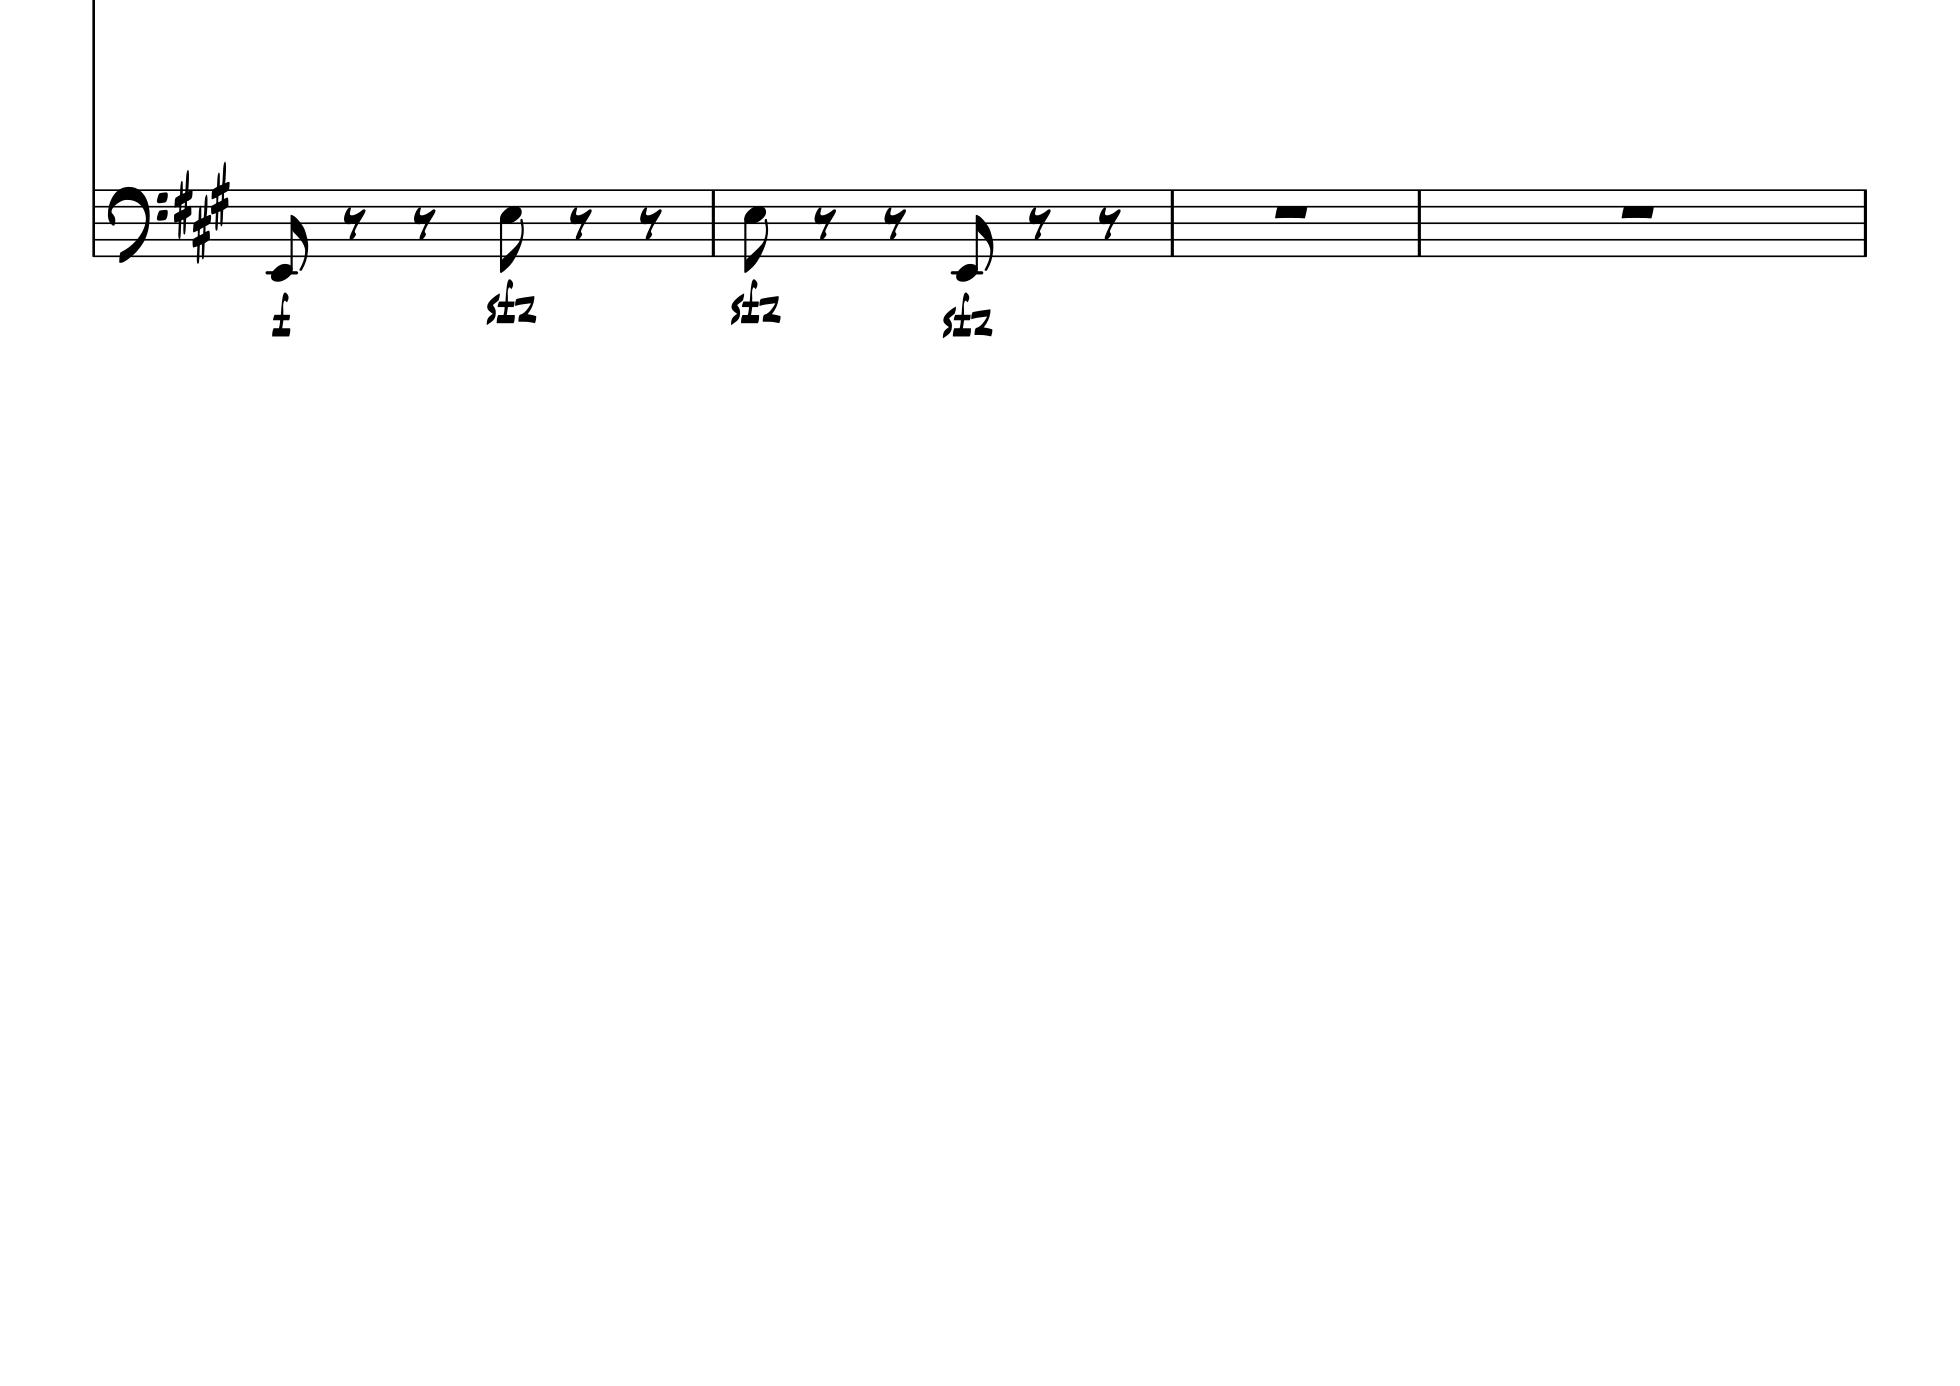8_-2: (265, 187, 310, 282), (951, 187, 996, 280)
8_5: (742, 187, 769, 274), (499, 187, 525, 274)
A_S: (172, 160, 232, 262)
Fclef: (106, 186, 172, 262)
Rests1: (1272, 202, 1311, 220), (1617, 201, 1657, 217)
Rests8: (637, 204, 663, 238), (882, 207, 907, 241), (1027, 204, 1053, 238), (1095, 205, 1120, 240), (412, 202, 436, 238), (343, 205, 367, 240), (568, 204, 592, 238), (814, 205, 838, 240)
Single_barline: (1857, 189, 1875, 256), (705, 189, 721, 256), (1164, 190, 1180, 256), (1411, 190, 1428, 256), (85, 189, 100, 256)
f: (271, 289, 294, 337)
sfz: (939, 288, 996, 343), (729, 277, 783, 328), (481, 277, 537, 327)
